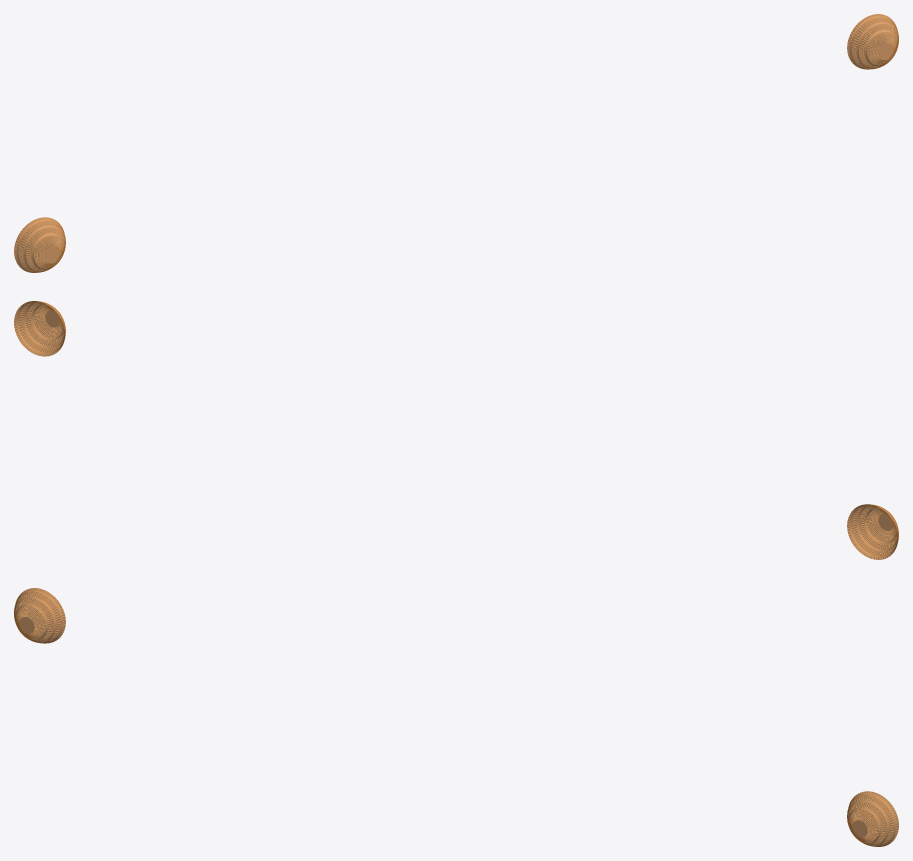
The model's file is o_glass_02.fbx.
3 renders of one model, top to bottom at view 1: azimuth 30°, elevation 25°; view 2: azimuth 150°, elevation 25°; view 3: azimuth 330°, elevation 25°, orthographic.
Visible parts, largest first — view 1: o_glass_02; view 2: o_glass_02; view 3: o_glass_02.
Part boxes in pixels (<box>): o_glass_02: <box>14,14,898,272</box>; o_glass_02: <box>14,301,898,559</box>; o_glass_02: <box>14,588,898,846</box>.
Size of the model in its own units: 332 by 19.48 by 8.75.
